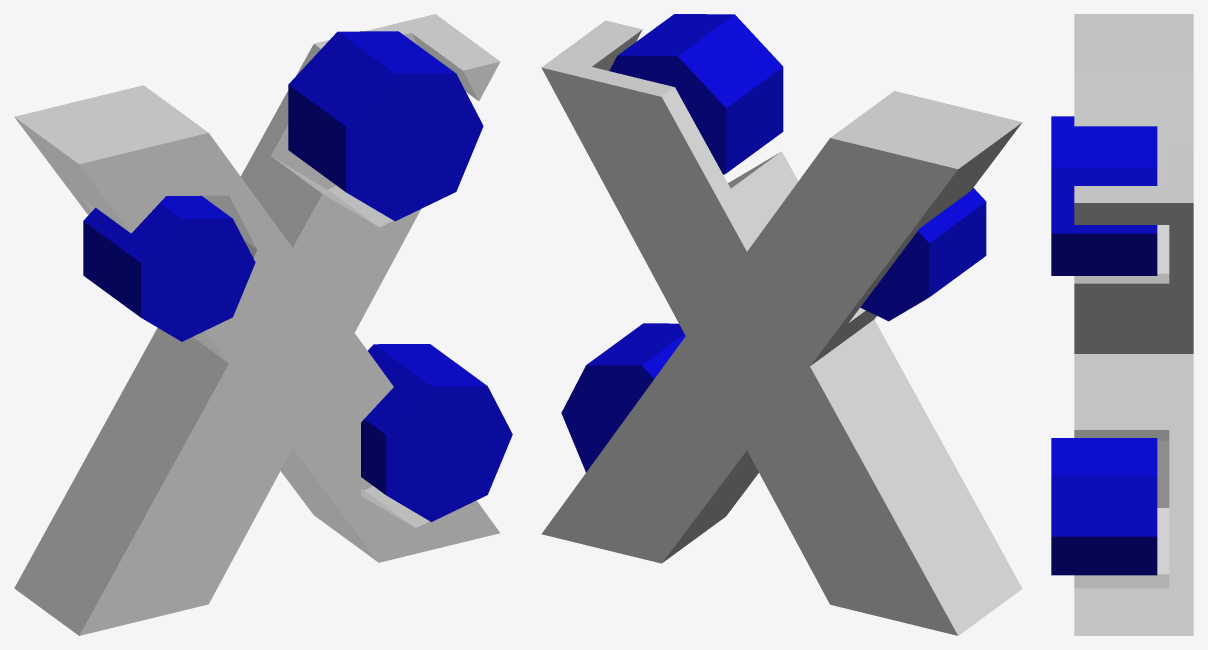
Rendered from Ch_Lite_X_01.fbx.
The picture shows the model from 3 angles, left to right: view 1: azimuth 30°, elevation 25°; view 2: azimuth 150°, elevation 25°; view 3: azimuth 270°, elevation 25°; orthographic projection. The views are drawn at different scales.
Parts seen in each view (by area): view 1: sphere1; view 2: sphere1; view 3: sphere1.
Boxes of the visible parts, x1,y1,x2,y2 form: sphere1: [14, 14, 512, 635]; sphere1: [541, 14, 1022, 635]; sphere1: [1051, 14, 1193, 635].
Size of the model in its own units: 0.748 by 0.8437 by 0.2387.
